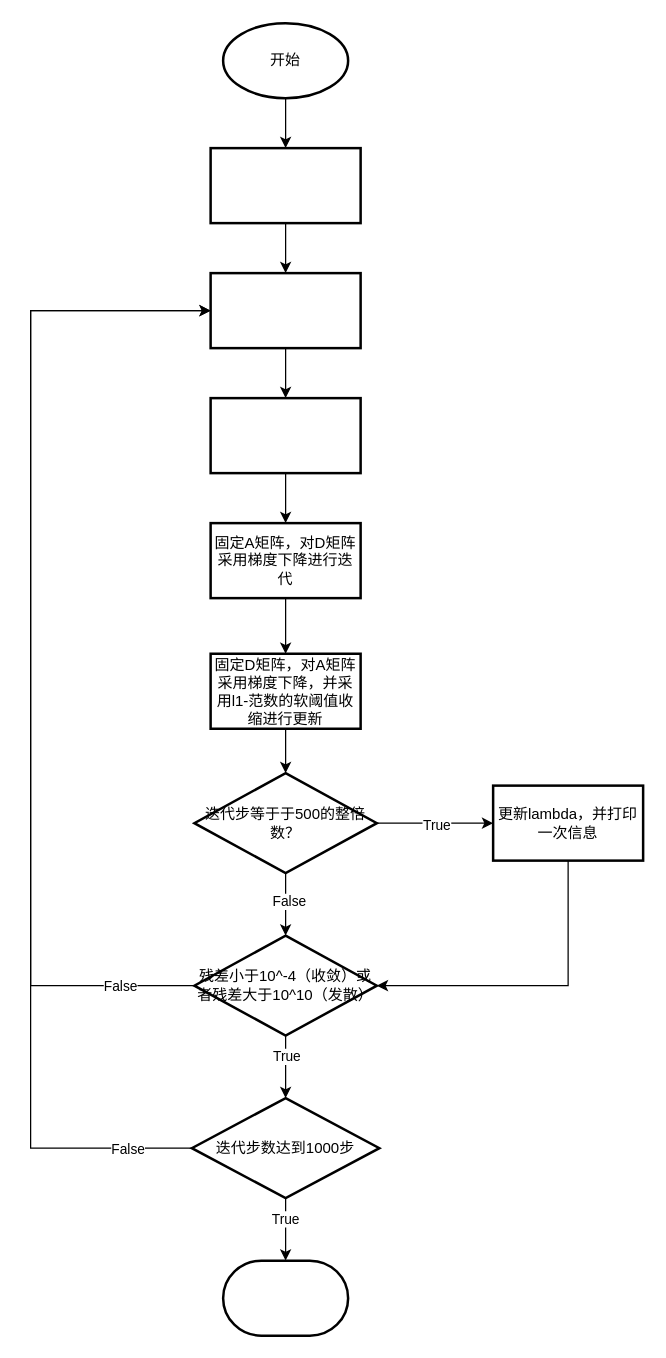
Some shapes in this 666 by 1358 pixel diagram are drawn without their labels. The shapes that lost their labels are listed below. From the top down, each one's box as (x1, y1, x2, y2) in pixels, then its label:
(209, 146, 361, 224): 读取tif图像，转换成灰度矩阵并进行标准化
(209, 271, 361, 349): 提取patches并构建输入矩阵X
(209, 396, 361, 474): 对输入矩阵X进行SVD分解，计算迭代的初始A0与D0
(221, 1259, 349, 1336): 结束
